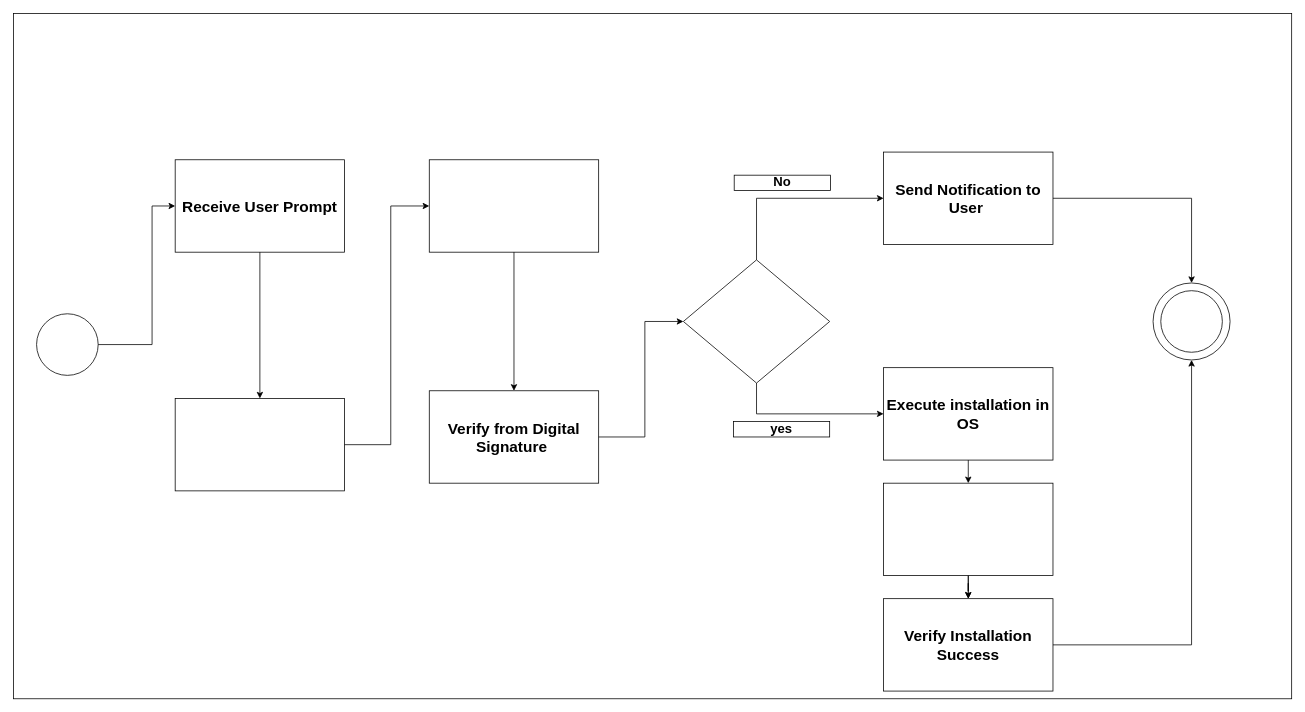
Some shapes in this 1305 by 712 pixel diagram are drawn without their labels. Here are the shapes that lost their labels. From the top down, the centre of each, then its label:
(x=514, y=205): Retrieve Software Details from Repository
(x=756, y=321): Valid Installer ?
(x=259, y=444): Analyze Prompt
(x=968, y=529): Configure System Paths and Dependencies
